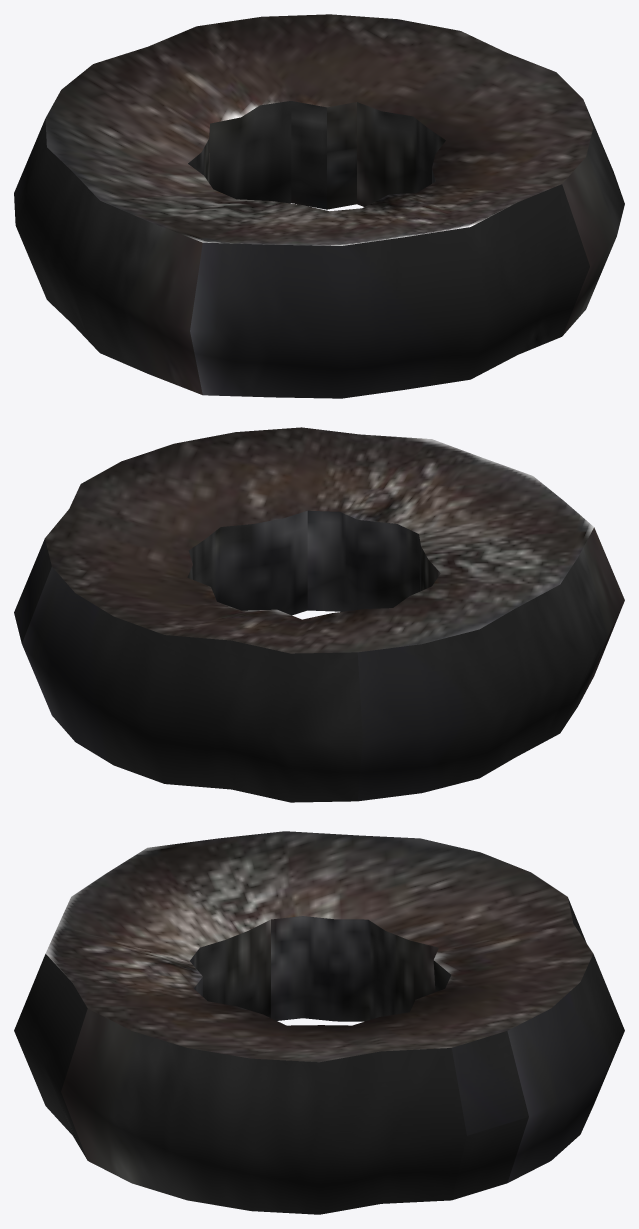
Rendered from oliveslice.fbx.
The picture shows the model from 3 angles, top to bottom: view 1: azimuth 30°, elevation 25°; view 2: azimuth 150°, elevation 25°; view 3: azimuth 270°, elevation 25°; orthographic projection. The views are drawn at different scales.
Visible parts, largest first — view 1: olive; view 2: olive; view 3: olive.
Boxes of the visible parts, <box> form: olive: <box>14,14,624,398</box>; olive: <box>14,427,624,802</box>; olive: <box>14,831,624,1214</box>.
Bounding box in the file's own units: 4.04 × 1.13 × 4.05.
Materials: 1 (1 with a texture image).
